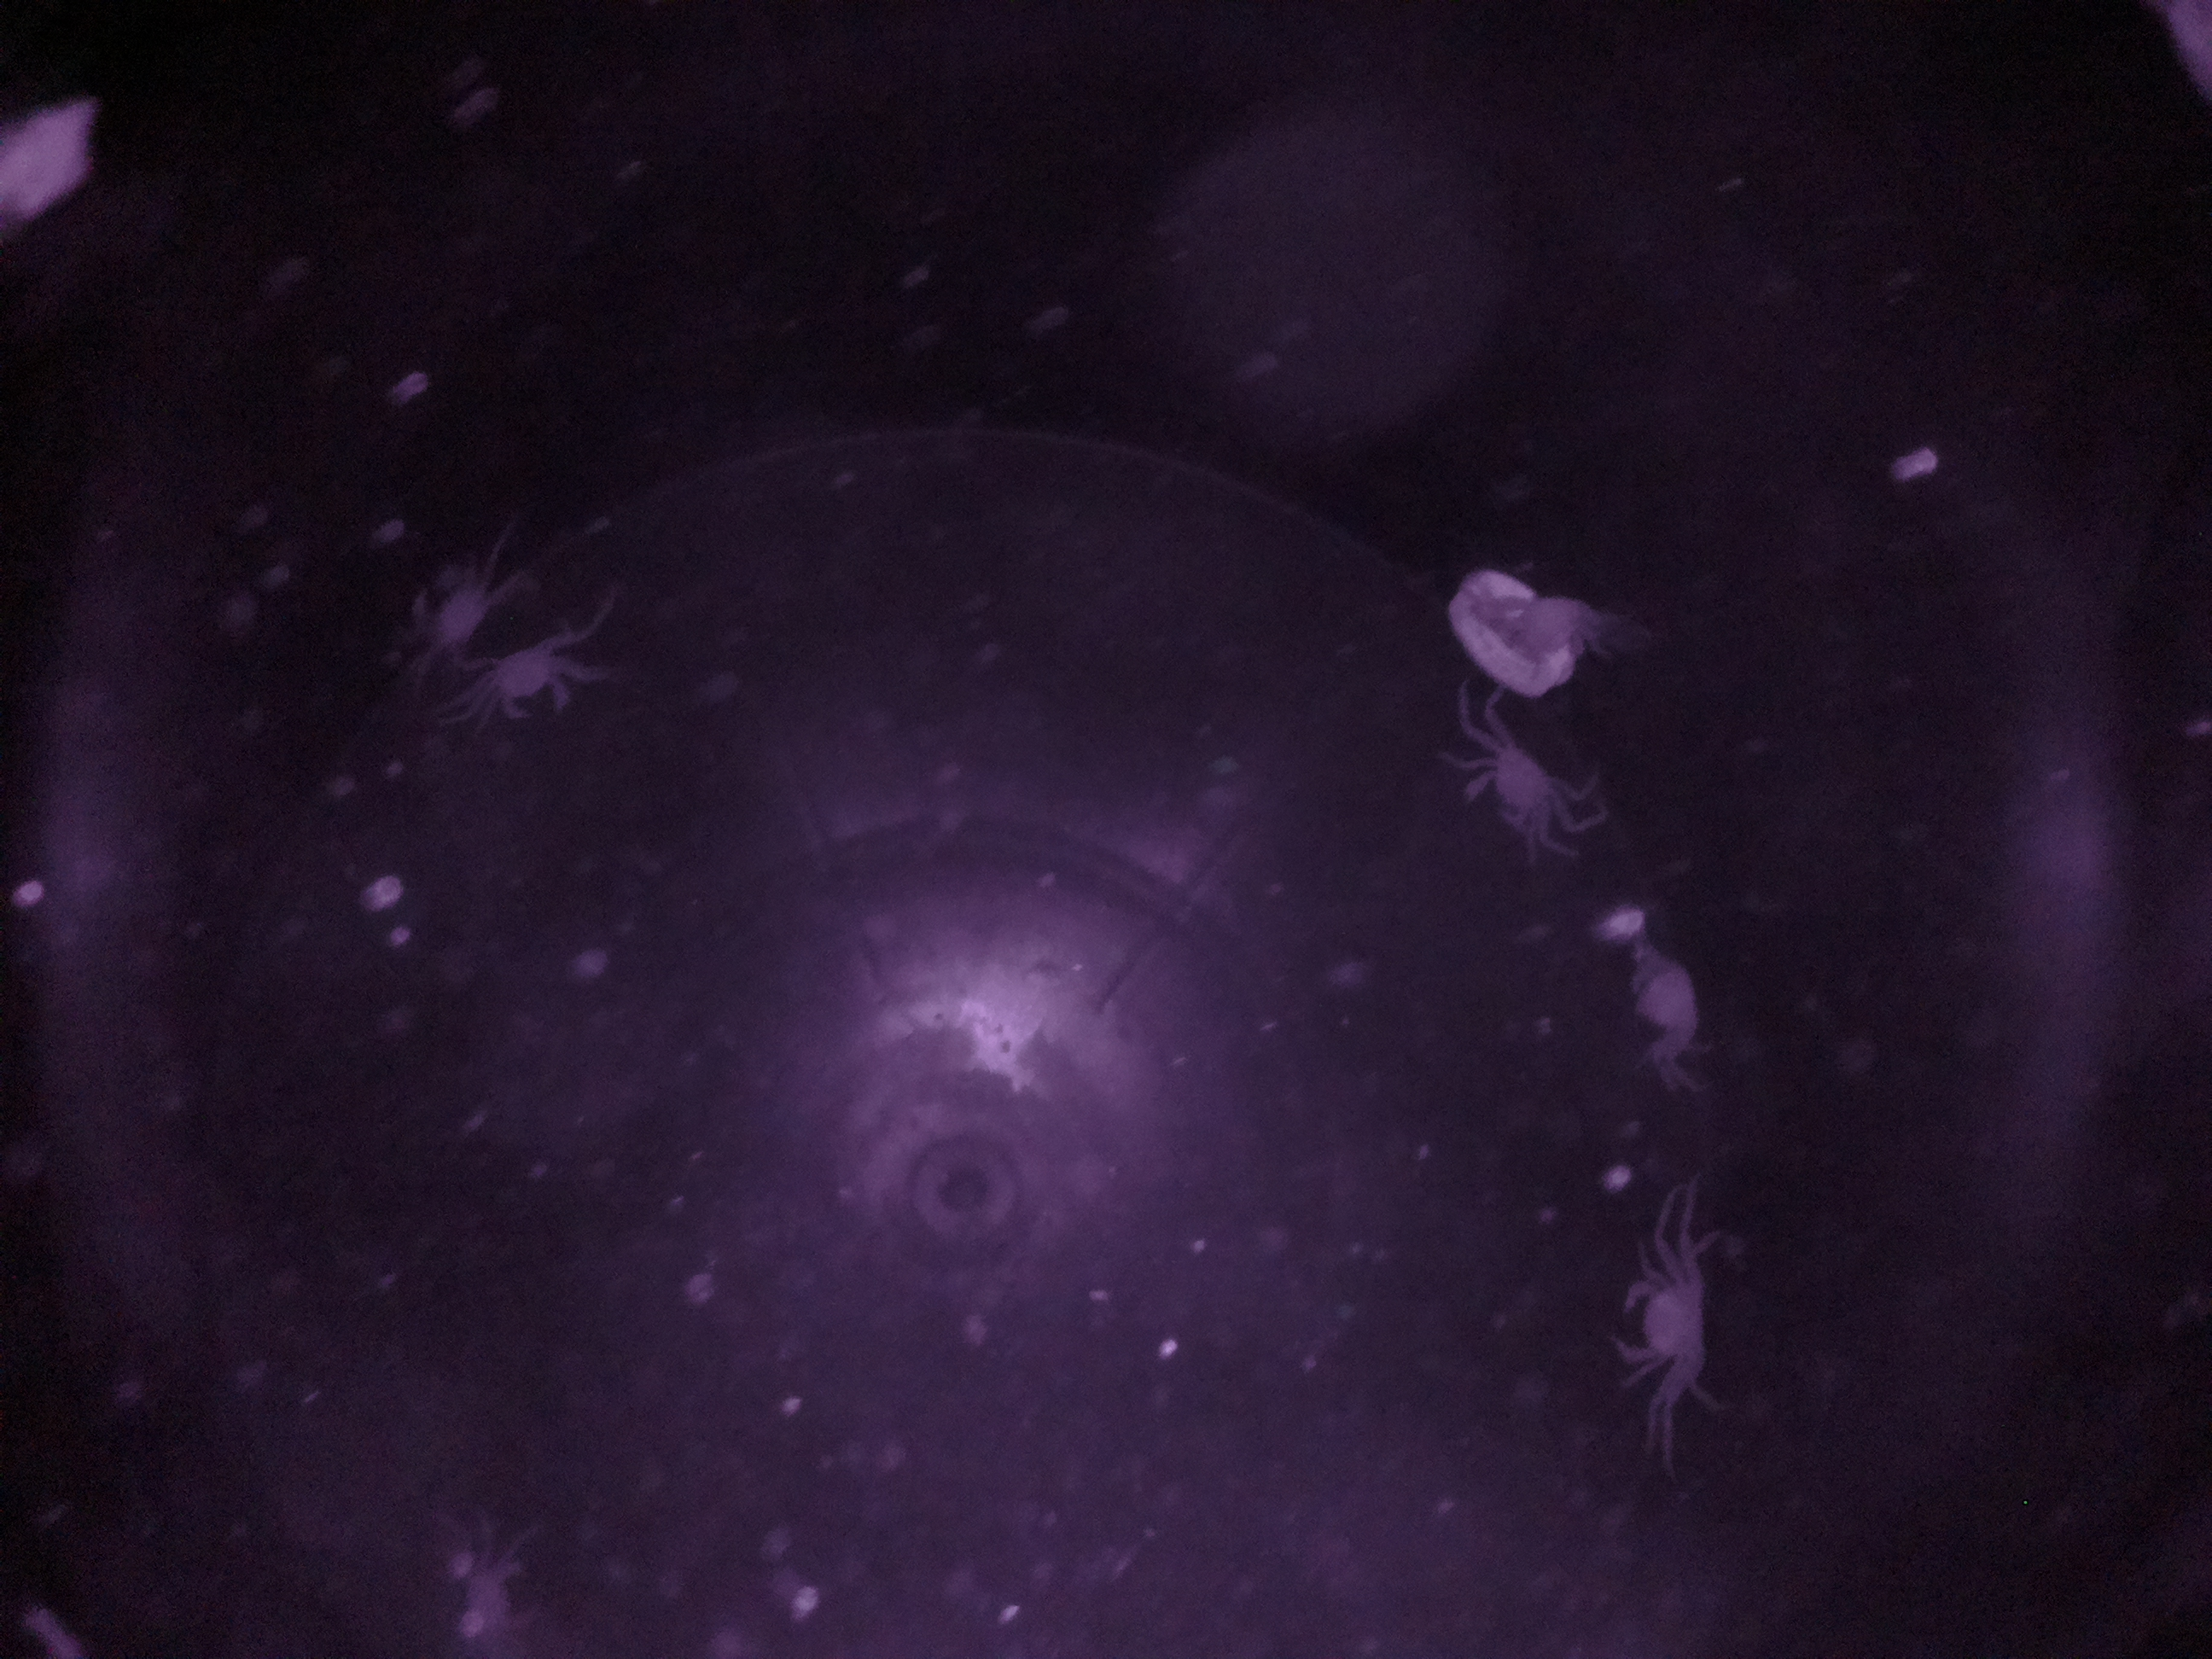Crab: (1601, 1244, 1735, 1398), (1453, 718, 1583, 856), (1609, 922, 1723, 1070), (467, 629, 603, 737)
